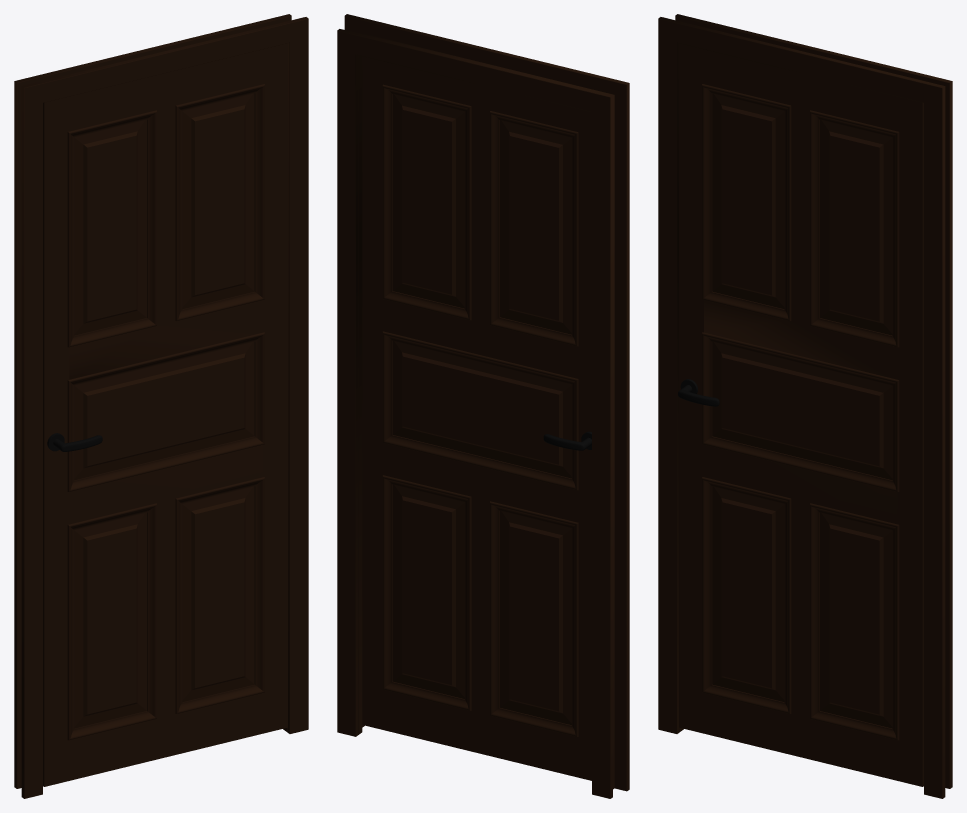
File: uploads_files_5710434_DOOR_01.fbx
3 views of the same model, side by side, from view 1: azimuth 30°, elevation 25°; view 2: azimuth 150°, elevation 25°; view 3: azimuth 330°, elevation 25° (orthographic).
Parts seen in each view (by area): view 1: Ligne1315, Boîte5047, Rectangle3832, Ligne1317, Box632222; view 2: Ligne1315, Boîte5047, Rectangle3832, Ligne1317, Box632223; view 3: Ligne1315, Boîte5047, Rectangle3832, Ligne1317, Box632222.
Boxes of the visible parts, box(x1,y1,x2,y2) form: Ligne1315: box(74, 93, 254, 728); Boîte5047: box(43, 43, 287, 786); Rectangle3832: box(14, 14, 308, 798); Ligne1317: box(67, 84, 264, 740); Box632222: box(47, 433, 102, 451); Ligne1315: box(392, 94, 571, 725); Boîte5047: box(362, 56, 591, 780); Rectangle3832: box(337, 14, 629, 798); Ligne1317: box(382, 84, 578, 736); Box632223: box(543, 431, 591, 450); Ligne1315: box(712, 93, 892, 728); Boîte5047: box(679, 43, 923, 786); Rectangle3832: box(658, 14, 952, 798); Ligne1317: box(702, 84, 899, 740); Box632222: box(678, 379, 719, 406).
Bounding box in the file's own units: 90.49 × 216 × 16.91.
